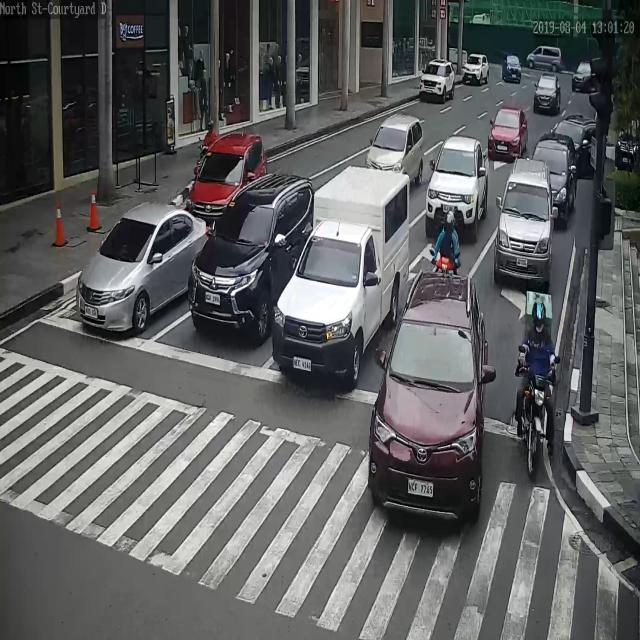car: (366, 271, 489, 525), (189, 173, 315, 338), (76, 203, 207, 333), (186, 134, 271, 243), (491, 157, 556, 283), (425, 134, 489, 232), (367, 114, 422, 193), (530, 137, 577, 212), (554, 115, 598, 175), (488, 106, 529, 160), (419, 61, 456, 102), (618, 116, 640, 173), (534, 74, 561, 119), (461, 55, 489, 84), (573, 61, 596, 96), (502, 55, 523, 86)
jeepney: (515, 289, 558, 472), (432, 206, 462, 274), (195, 119, 217, 178)
van: (272, 169, 412, 384), (525, 43, 561, 72)
